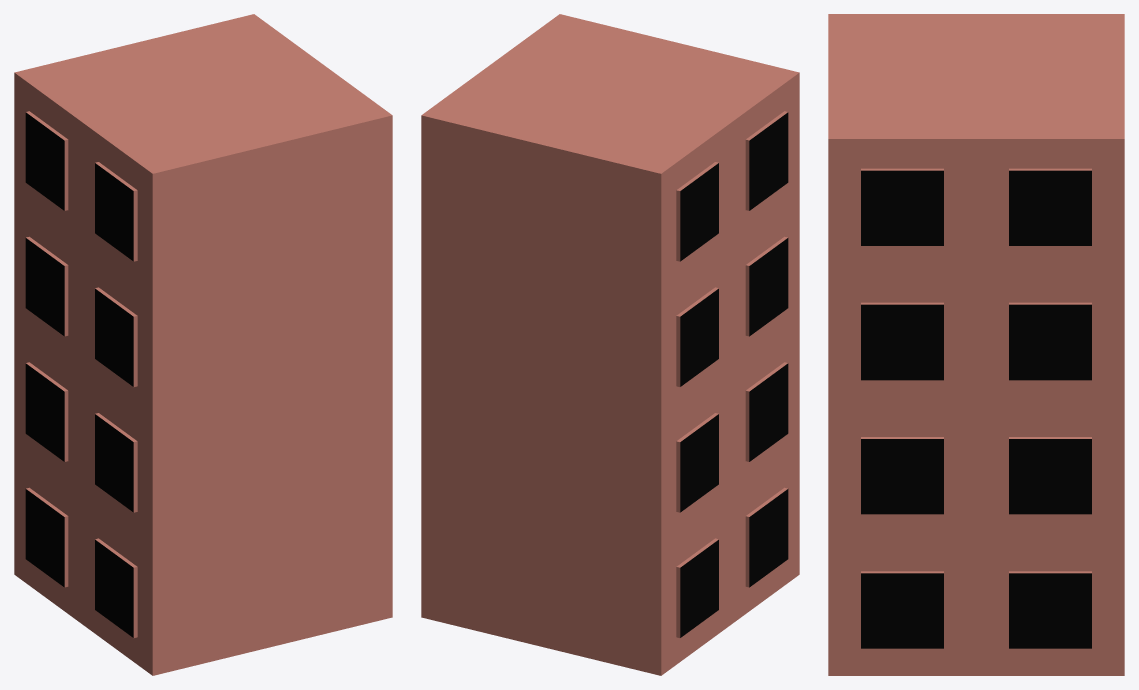
The model's file is building4.glb.
3 renders of one model, left to right at view 1: azimuth 30°, elevation 25°; view 2: azimuth 150°, elevation 25°; view 3: azimuth 270°, elevation 25°, orthographic. The views are drawn at different scales.
Parts seen in each view (by area): view 1: Cube; view 2: Cube; view 3: Cube.
Boxes of the visible parts, left/top/right/bottom form: Cube: left=14, top=14, right=392, bottom=675; Cube: left=421, top=14, right=799, bottom=675; Cube: left=828, top=14, right=1124, bottom=675.
Size of the model in its own units: 2.06 by 4 by 2.
